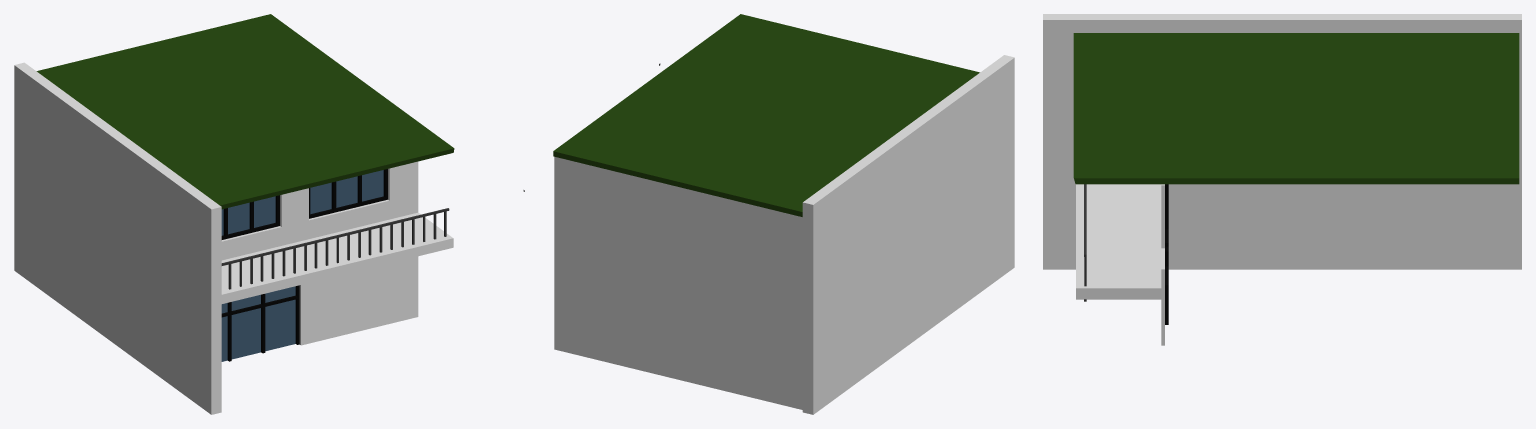
The model's file is Unit.fbx.
3 renders of one model, left to right at view 1: azimuth 30°, elevation 25°; view 2: azimuth 150°, elevation 25°; view 3: azimuth 270°, elevation 25°, orthographic. The views are drawn at different scales.
Visible parts, largest first — view 1: Unit_Base_Wall, Unit_Floor_Roof, Unit_Floor_Floor, Unit_Base_Main, Unit_Base_Windows, Unit_Floor_Main, Unit_Base_Frame, Unit_Floor_Rails; view 2: Unit_Base_Wall, Unit_Floor_Roof, Unit_Base_Main, Unit_Floor_Main; view 3: Unit_Floor_Roof, Unit_Base_Wall, Unit_Floor_Floor, Unit_Base_Frame.
Boxes of the visible parts, <box> form: Unit_Base_Wall: <box>14,62,221,414</box>; Unit_Floor_Roof: <box>36,14,454,209</box>; Unit_Floor_Floor: <box>221,212,453,303</box>; Unit_Base_Main: <box>299,256,418,345</box>; Unit_Base_Windows: <box>221,170,383,361</box>; Unit_Floor_Main: <box>221,161,418,260</box>; Unit_Base_Frame: <box>221,169,387,361</box>; Unit_Floor_Rails: <box>221,190,524,289</box>; Unit_Base_Wall: <box>802,55,1014,414</box>; Unit_Floor_Roof: <box>553,14,979,216</box>; Unit_Base_Main: <box>554,252,802,409</box>; Unit_Floor_Main: <box>554,156,802,312</box>; Unit_Floor_Roof: <box>1073,33,1519,184</box>; Unit_Base_Wall: <box>1043,14,1521,269</box>; Unit_Floor_Floor: <box>1076,184,1161,299</box>; Unit_Base_Frame: <box>1165,184,1168,324</box>.
Size of the model in its own units: 1273 by 757 by 1317.
